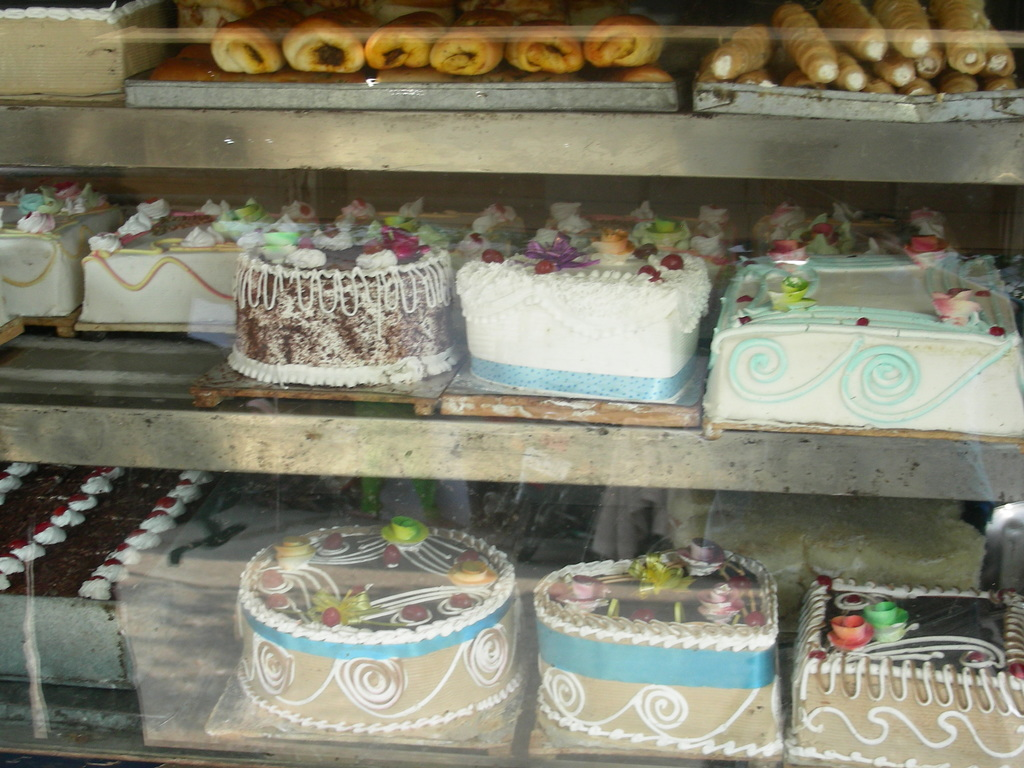cake: (0, 456, 1023, 767), (0, 185, 1023, 443)
